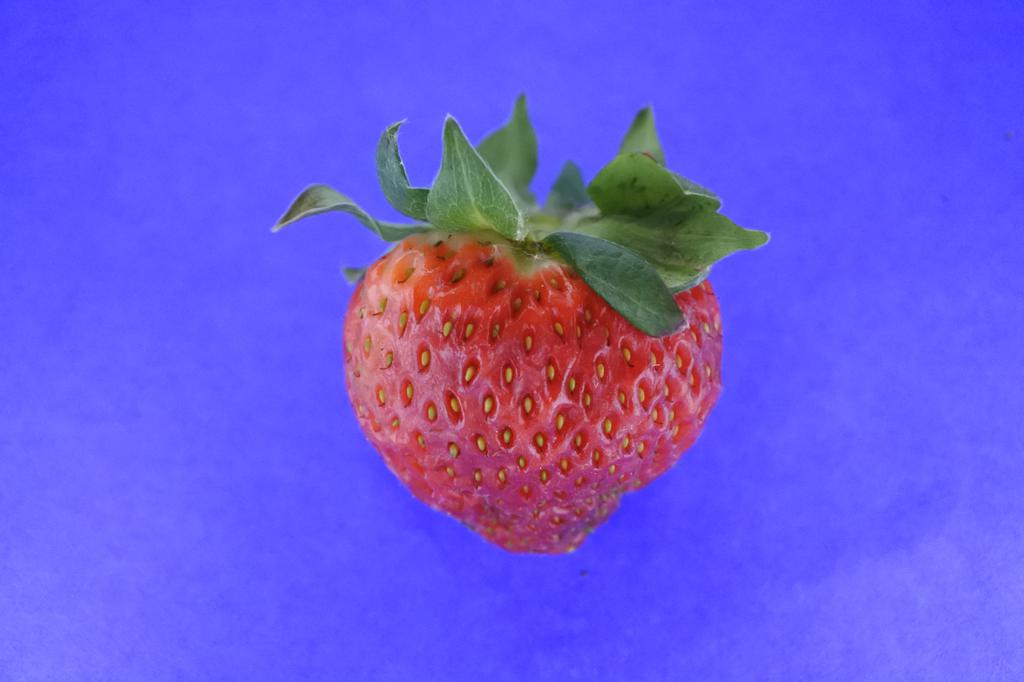red strawberry: (274, 97, 765, 555)
